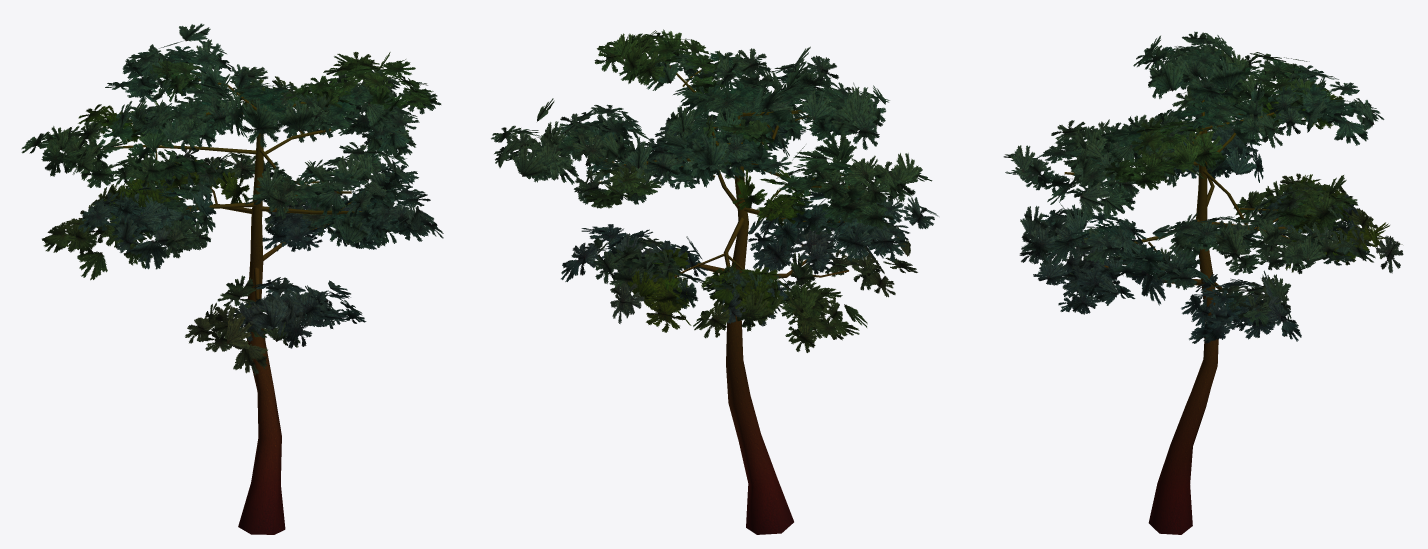
File: pine_2.lod1.glb
The picture shows the model from 3 angles, left to right: view 1: azimuth 30°, elevation 25°; view 2: azimuth 150°, elevation 25°; view 3: azimuth 270°, elevation 25°; orthographic projection. The views are drawn at different scales.
Visible parts, largest first — view 1: pine_2.lod1; view 2: pine_2.lod1; view 3: pine_2.lod1.
Part boxes in pixels (bbox=[...]): pine_2.lod1: bbox=[21, 23, 443, 534]; pine_2.lod1: bbox=[491, 29, 938, 534]; pine_2.lod1: bbox=[1003, 31, 1403, 534].
Bounding box in the file's own units: 21.44 × 23.09 × 19.22.
Materials: 2 (2 with a texture image).
